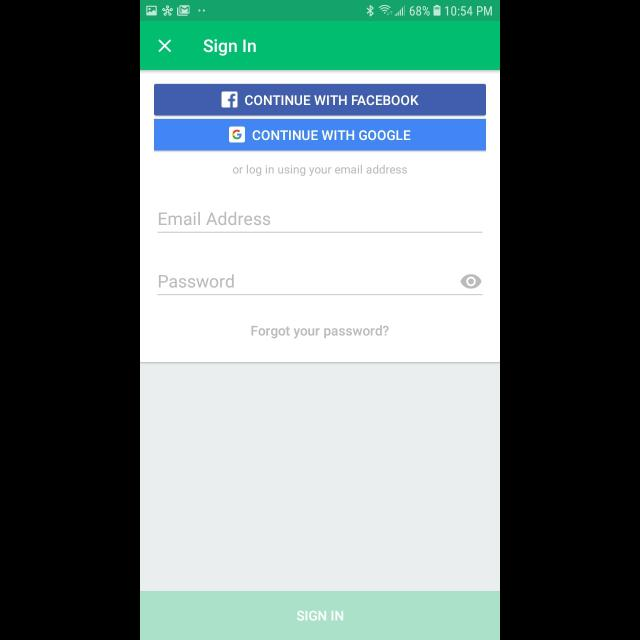icon: (461, 274, 482, 290), (158, 40, 172, 52)
input: (158, 274, 482, 296), (158, 212, 482, 232)
text: (233, 164, 407, 176), (252, 325, 388, 339), (160, 212, 270, 226), (160, 274, 234, 288), (204, 40, 256, 56)
textbutton: (140, 591, 499, 640), (154, 84, 486, 116), (154, 120, 486, 150)
uppertaskbar: (140, 1, 500, 22)
